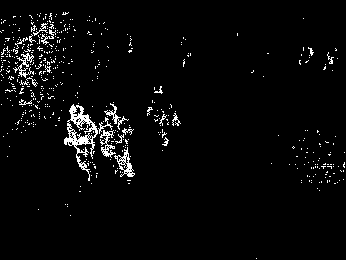person: (98, 101, 136, 189), (64, 102, 99, 185), (148, 80, 180, 150)
